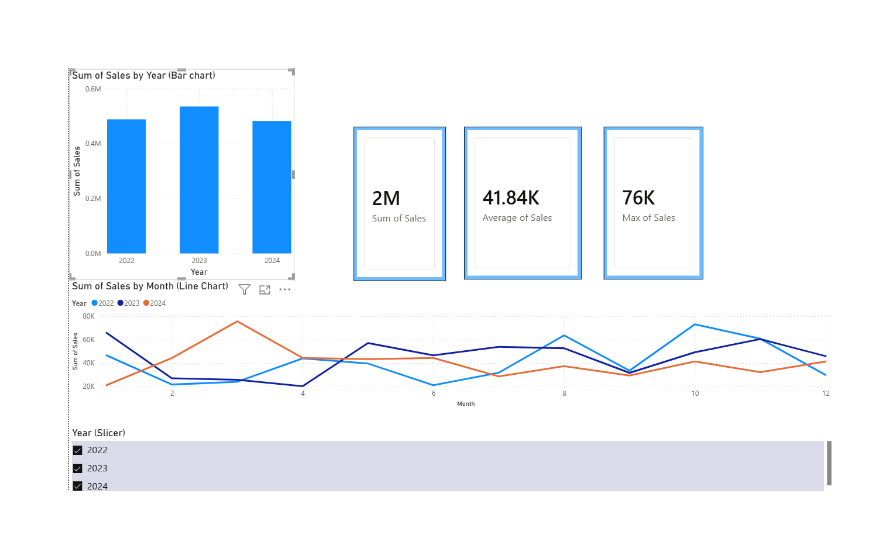

This screenshot's page, from the dashboard's own definition file:
{"tool":"powerbi","page":{"name":"Page 1","canvas":[1280,720],"ordinal":0},"visuals":[{"type":"listSlicer","title":"Year (Slicer)","fields":{"Values":["sales_data.Year"]},"box":[0,605.6,1280,114.4],"z":0},{"type":"lineChart","title":"Sum of Sales by Month  (Line Chart)","fields":{"Category":["sales_data.Month"],"Y":["Sum(sales_data.Sales)"],"Series":["sales_data.Year"]},"box":[0,360,1280,218.3],"z":1000},{"type":"clusteredColumnChart","title":"Sum of Sales by Year (Bar chart)","fields":{"Y":["Sum(sales_data.Sales)"],"Category":["sales_data.Year"]},"box":[0,7.8,376.7,352.2],"z":2000},{"type":"cardVisual","fields":{"Data":["Sum(sales_data.Sales)"]},"box":[475.6,104.4,154.4,257.8],"z":3000},{"type":"cardVisual","fields":{"Data":["Avg(sales_data.Sales)"]},"box":[660,104.4,196.7,255.6],"z":4000},{"type":"cardVisual","fields":{"Data":["Max(sales_data.Sales)"]},"box":[894.4,104.4,166.7,255.6],"z":5000}]}

Visuals, with their boxes on the page's 1280x720 design canvas (x1, y1, x2, y2). These are canvas units, not pixel positions in the 875x541 screenshot, which may show the page scaled, cropped or inside an application window:
"Year (Slicer)" listSlicer: box=[0, 606, 1280, 720]
"Sum of Sales by Month  (Line Chart)" lineChart: box=[0, 360, 1280, 578]
"Sum of Sales by Year (Bar chart)" clusteredColumnChart: box=[0, 8, 377, 360]
cardVisual - Sum(sales_data.Sales): box=[476, 104, 630, 362]
cardVisual - Avg(sales_data.Sales): box=[660, 104, 857, 360]
cardVisual - Max(sales_data.Sales): box=[894, 104, 1061, 360]
